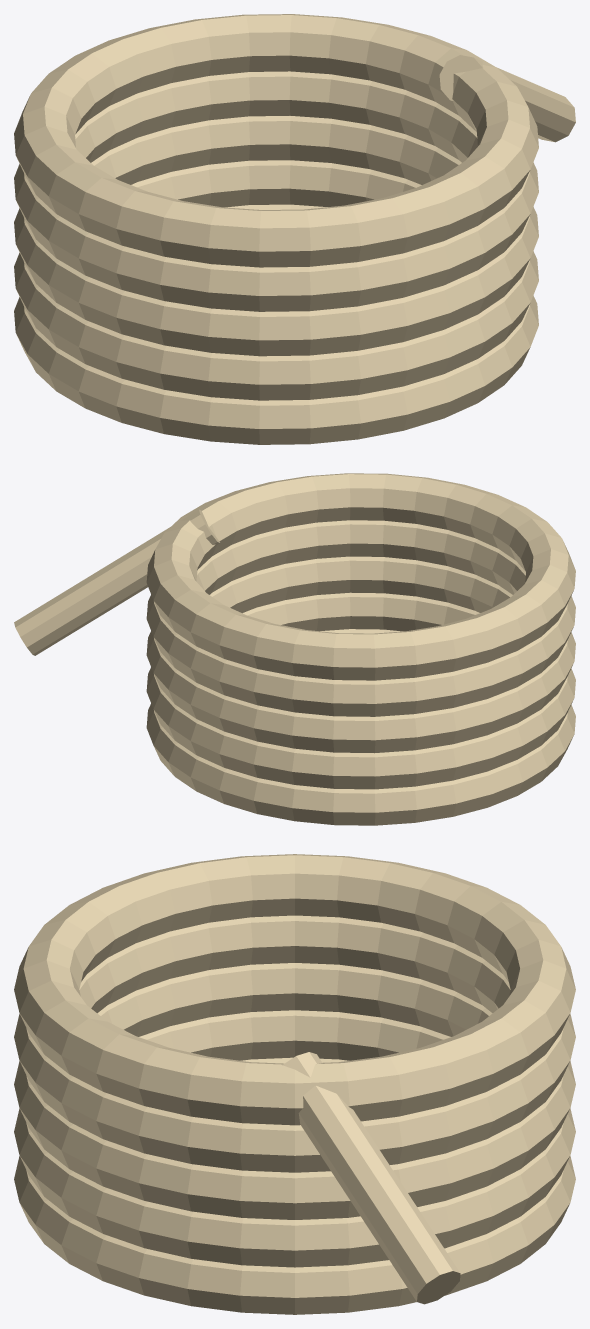
Rendered from RopeCoil.glb.
3 views of the same model, one above another, from view 1: azimuth 30°, elevation 25°; view 2: azimuth 150°, elevation 25°; view 3: azimuth 270°, elevation 25° (orthographic). The views are drawn at different scales.
Parts seen in each view (by area): view 1: RopeCoil; view 2: RopeCoil; view 3: RopeCoil.
Boxes of the visible parts, x1,y1,x2,y2 form: RopeCoil: (14, 14, 575, 444); RopeCoil: (14, 473, 575, 825); RopeCoil: (14, 854, 575, 1314).
Size of the model in its own units: 1.11 by 0.4324 by 0.86.
